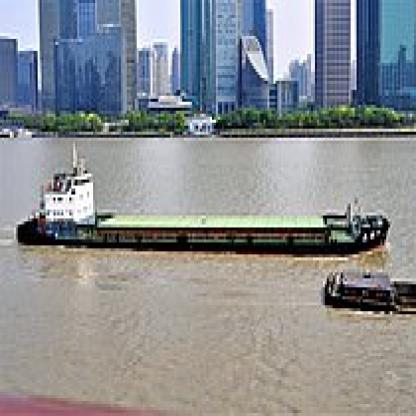Tanker: (18, 150, 388, 252)
